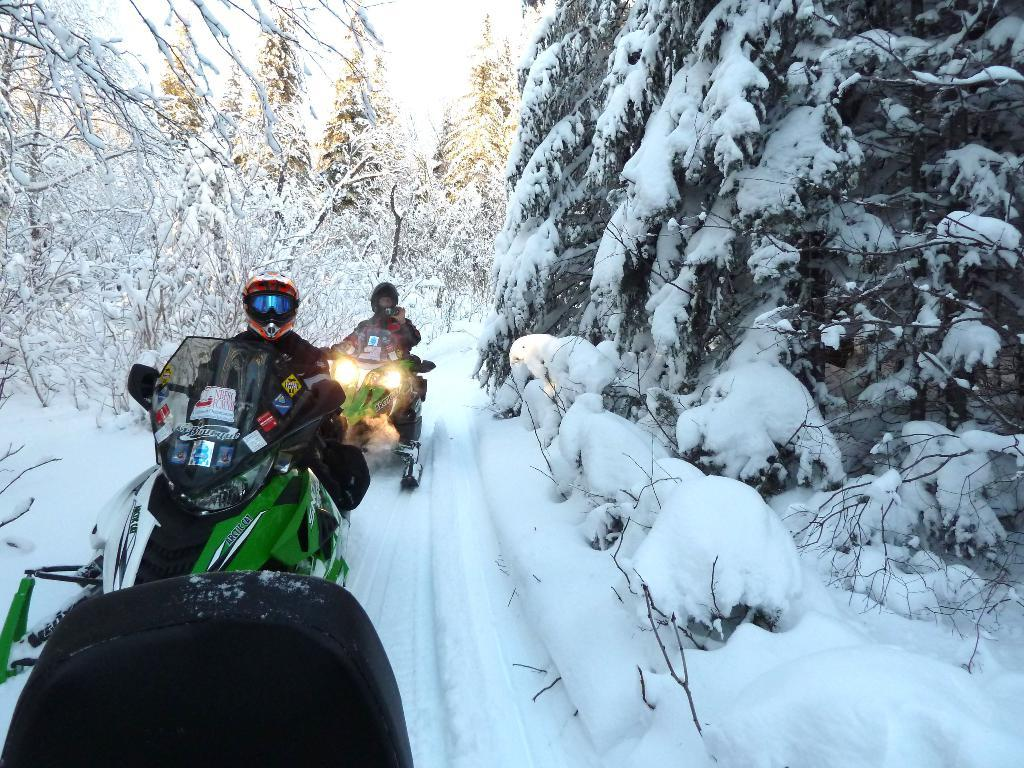helmet: (242, 271, 300, 343), (370, 282, 400, 316)
